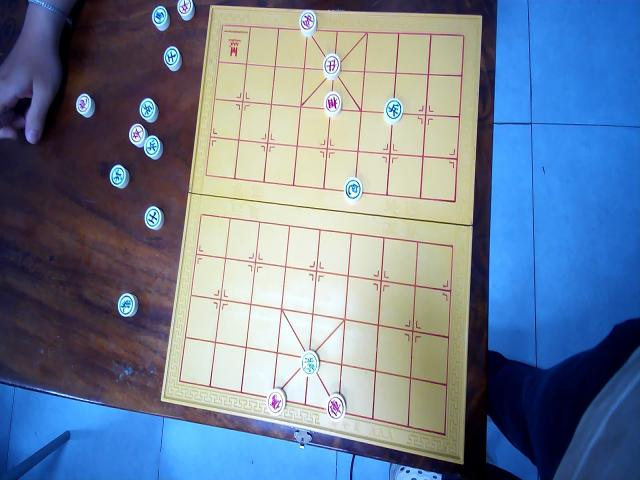piece: (266, 387, 286, 416), (326, 392, 346, 421), (382, 96, 402, 124), (323, 90, 342, 118), (143, 205, 163, 231), (138, 97, 158, 123), (117, 292, 137, 318), (109, 163, 129, 188), (298, 10, 317, 36), (322, 52, 340, 79), (300, 349, 318, 376), (75, 92, 94, 117), (343, 176, 362, 201), (163, 45, 181, 71), (128, 122, 146, 146), (144, 134, 161, 159), (152, 5, 168, 30), (176, 0, 194, 21)
